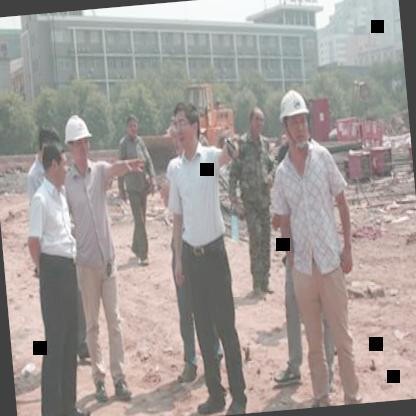head: (35, 132, 68, 190), (168, 100, 200, 156), (245, 101, 268, 138), (126, 110, 142, 142)
helmet: (276, 86, 314, 152), (61, 108, 96, 172)
